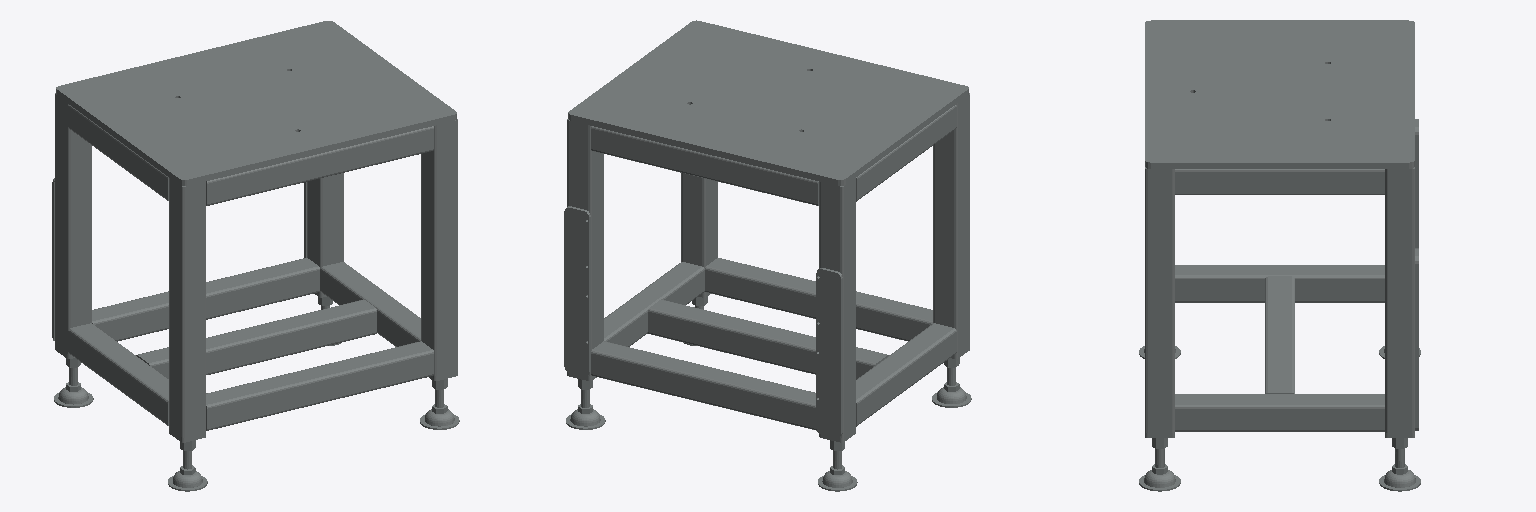
The robot description file, URDF, robot "staubli_base":
<?xml version="1.0" encoding="utf-8"?>
<!-- This URDF was automatically created by SolidWorks to URDF Exporter! Originally created by [author] ([email redacted]) 
     Commit Version: 1.6.0-4-g7f85cfe  Build Version: 1.6.7995.38578
     For more information, please see http://wiki.ros.org/sw_urdf_exporter -->
<robot
  name="staubli_base">
  <link
    name="base_link">
    <inertial>
      <origin
        xyz="0.111070040734981 -0.0263083680910117 0.511518066089805"
        rpy="0 0 0" />
      <mass
        value="6.6818864715558" />
      <inertia
        ixx="0.461151461456338"
        ixy="1.7577952982073E-14"
        ixz="1.30515780474849E-12"
        iyy="0.425819887245365"
        iyz="-0.00724182668878166"
        izz="0.551954923395766" />
    </inertial>
    <visual>
      <origin
        xyz="0 0 0"
        rpy="0 0 0" />
      <geometry>
        <mesh
          filename="package://staubli_base/meshes/base_link.STL" />
      </geometry>
      <material
        name="">
        <color
          rgba="0.52156862745098 0.541176470588235 0.541176470588235 1" />
      </material>
    </visual>
    <collision>
      <origin
        xyz="0 0 0"
        rpy="0 0 0" />
      <geometry>
        <mesh
          filename="package://staubli_base/meshes/base_link.STL" />
      </geometry>
    </collision>
  </link>
</robot>

--- What the picture shows (computed from the rendered views, not written in the file) ---
Views: 3 orthographic renders of the robot side by side, from view 1: azimuth 30°, elevation 25°; view 2: azimuth 150°, elevation 25°; view 3: azimuth 270°, elevation 25°.
Model staubli_base with 1 links and 0 joints (none), rooted at base_link, posed every joint at zero.
Visible links, largest first — view 1: base_link; view 2: base_link; view 3: base_link.
Link boxes in pixels (<box>): base_link: <box>52,21,459,491</box>; base_link: <box>564,20,971,491</box>; base_link: <box>1139,20,1420,491</box>.
Bounding box of the posed robot: 0.5796 × 0.47 × 0.6 m (x, y, z).
Meshes: 1 distinct files referenced, 1 mesh visuals loaded (1 binary STL).